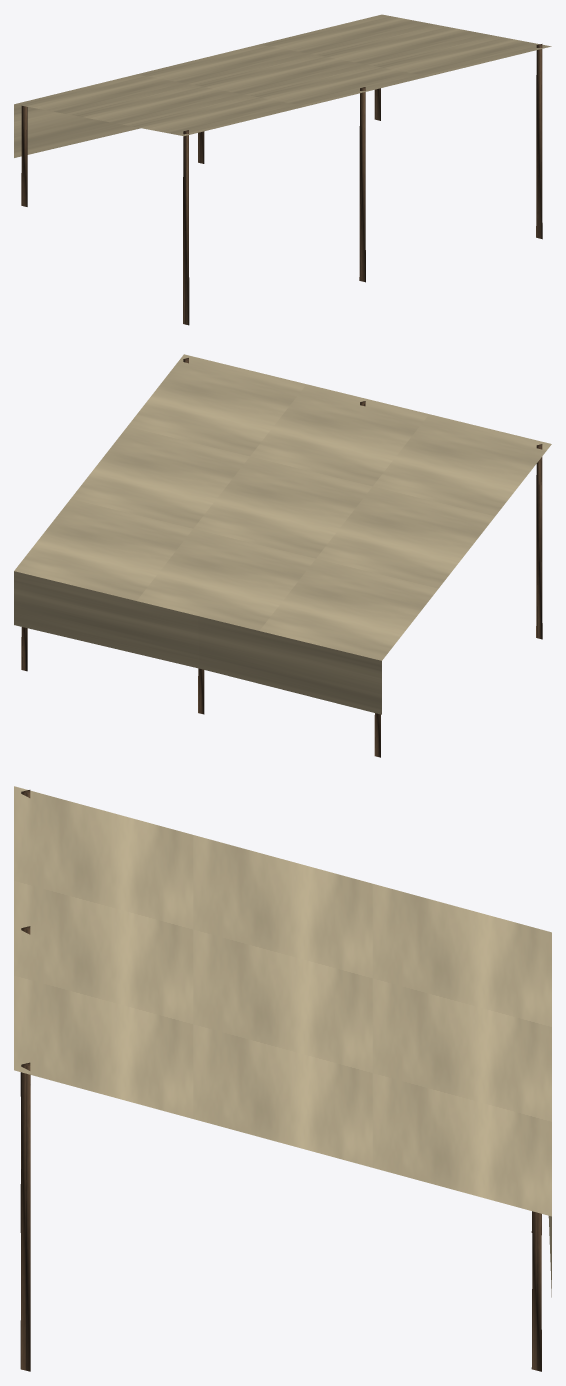
Rendered from Tent_Awning_1_LOD2.gltf.
The picture shows the model from 3 angles, top to bottom: view 1: azimuth 30°, elevation 25°; view 2: azimuth 150°, elevation 25°; view 3: azimuth 270°, elevation 25°; orthographic projection. The views are drawn at different scales.
Parts seen in each view (by area): view 1: Tent_Awning_1_LOD2; view 2: Tent_Awning_1_LOD2; view 3: Tent_Awning_1_LOD2.
Part boxes in pixels (box(x1,y1,x2,y2)): Tent_Awning_1_LOD2: box(14, 14, 551, 325); Tent_Awning_1_LOD2: box(14, 354, 551, 757); Tent_Awning_1_LOD2: box(14, 786, 551, 1371).
Bounding box in the file's own units: 5 × 2.5 × 4.
2 materials, 2 textured.
